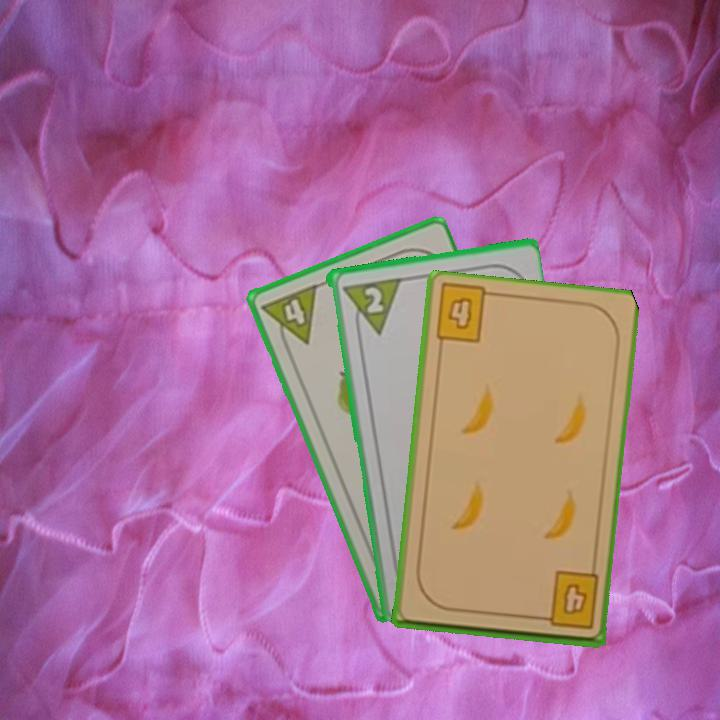2p: (338, 274, 402, 340)
4b: (533, 568, 602, 632), (443, 293, 476, 332)
4p: (258, 280, 320, 355)
